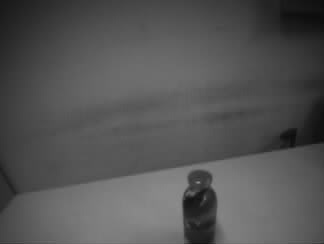Bottle: (182, 169, 218, 244)
